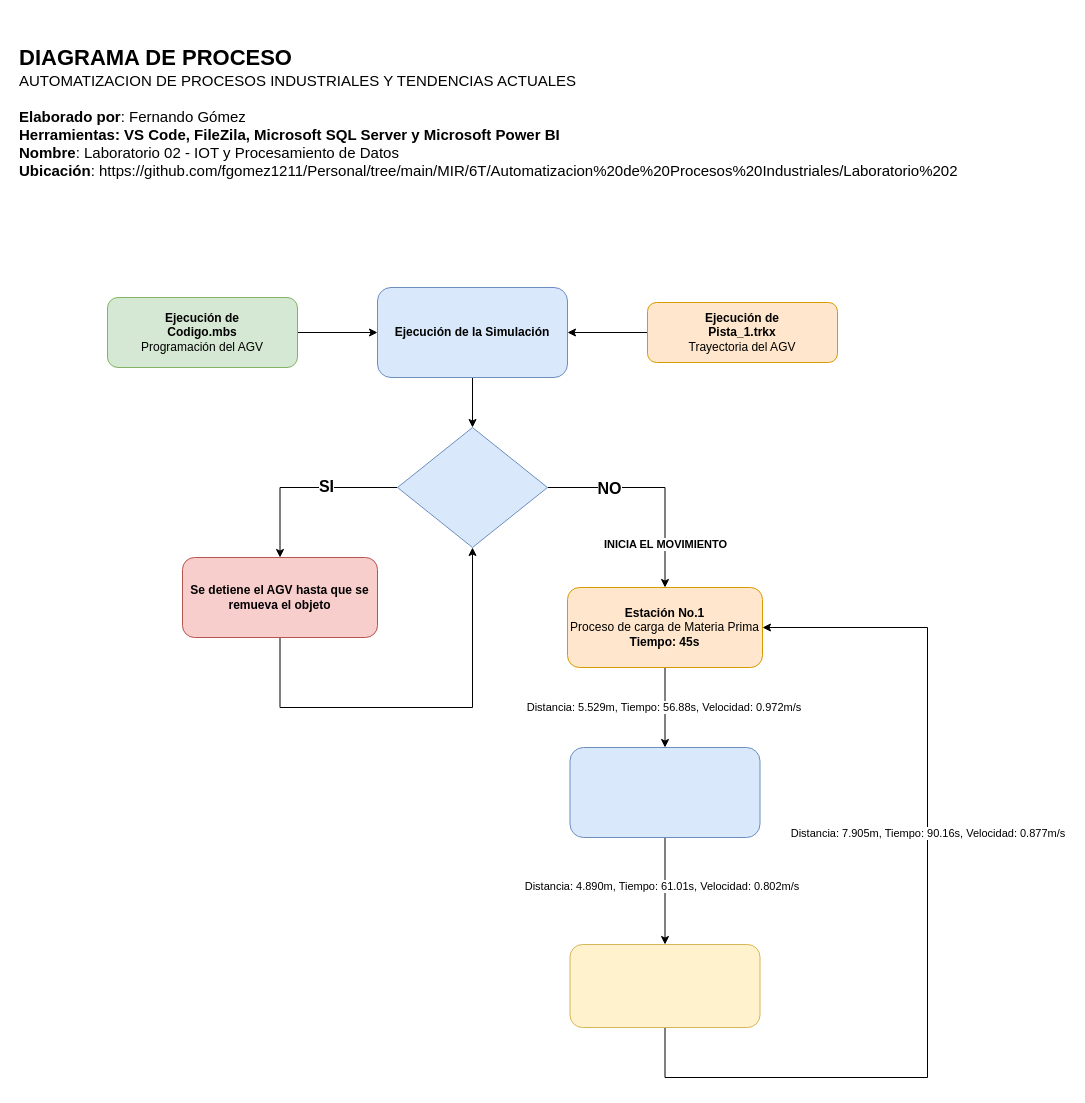
The diagram is 1085 pixels wide and 1103 high, and some of its shapes have lost their labels. The shapes that lost their labels are listed below. From the top down, each one's box as (x1, y1, x2, y2) in pixels, then its label:
(396, 426, 548, 548): Detección de Obstaculos
(569, 746, 760, 838): Estación No.2 Proceso de descarga de Materia Prima Tiempo: 40s
(569, 944, 760, 1028): Estación No.3 Proceso de descarga final de Materia Prima Tiempo: 30s
